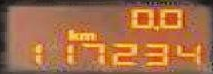-: (149, 24, 155, 30)
0: (127, 7, 153, 28), (155, 7, 180, 28)
1: (31, 41, 42, 64), (62, 41, 73, 64)
2: (109, 41, 135, 64)
3: (140, 41, 167, 64)
4: (171, 41, 200, 64)
7: (78, 40, 104, 64)
X: (76, 30, 94, 39), (64, 28, 78, 39)
